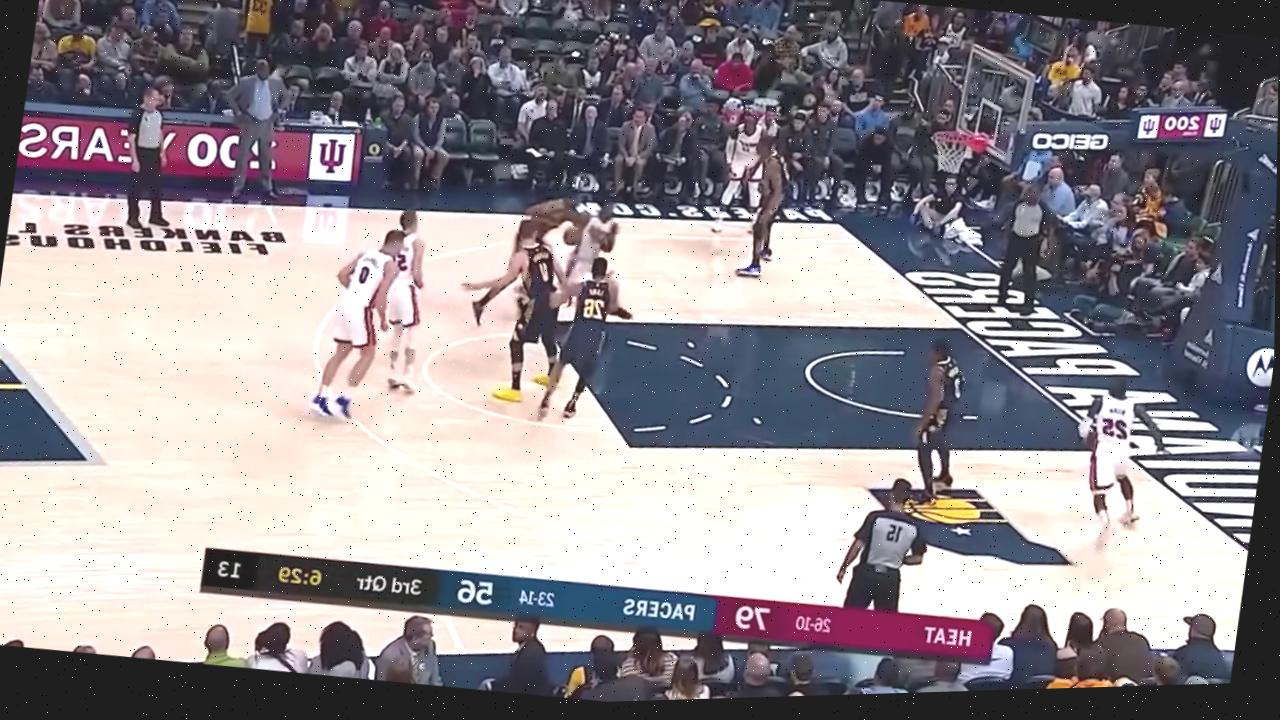foul: (470, 158, 647, 343)
